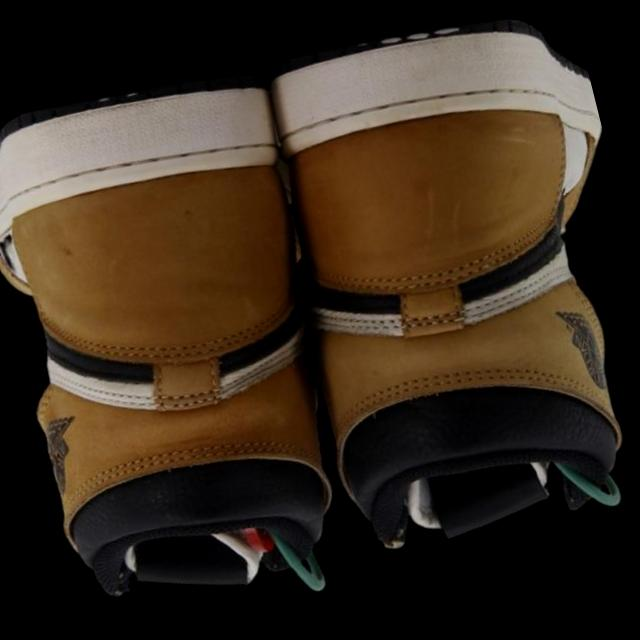nike_original_jordan: (0, 45, 389, 630)
